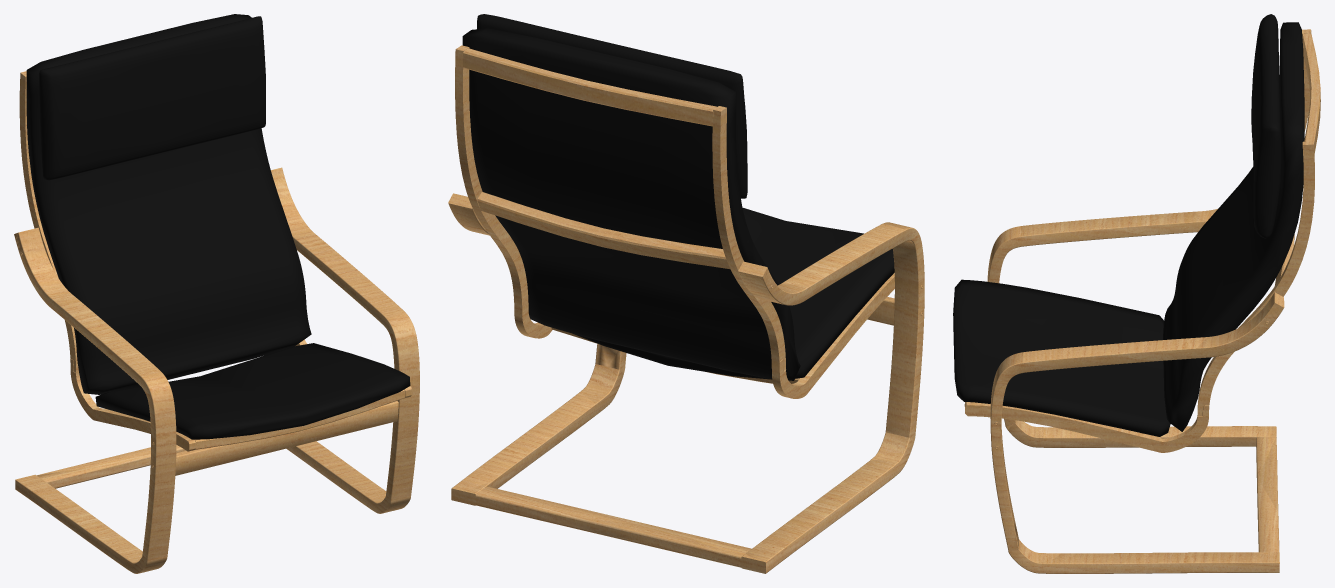
The model's file is IKEA-Poang_Armchair-3D.FBX.
The picture shows the model from 3 angles, left to right: view 1: azimuth 30°, elevation 25°; view 2: azimuth 150°, elevation 25°; view 3: azimuth 270°, elevation 25°; orthographic projection. The views are drawn at different scales.
Visible parts, largest first — view 1: Cylinder01; view 2: Cylinder01; view 3: Cylinder01.
Boxes of the visible parts, <box> form: Cylinder01: <box>14,14,419,573</box>; Cylinder01: <box>448,14,924,573</box>; Cylinder01: <box>953,14,1320,573</box>.
Bounding box in the file's own units: 0.3718 × 0.4206 × 0.5505.
2 materials, 1 textured.
